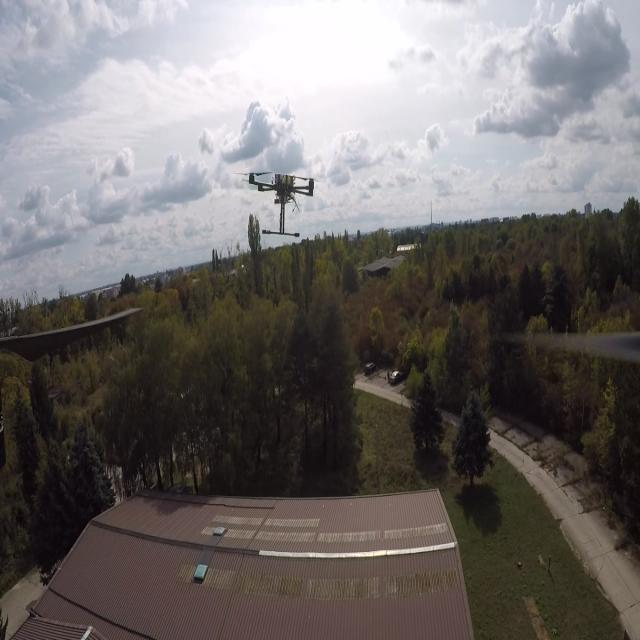UAV: (239, 156, 327, 240)
